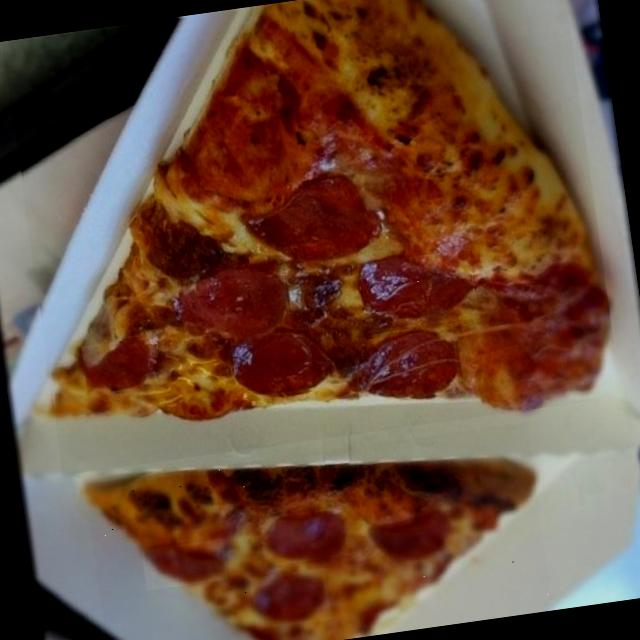pepperoni: (240, 172, 378, 273), (358, 248, 478, 332), (176, 259, 291, 343), (352, 328, 462, 406), (230, 325, 332, 400), (258, 507, 350, 567), (368, 508, 462, 566), (249, 568, 331, 630), (81, 337, 158, 396), (141, 538, 228, 590)
pizza: (54, 0, 609, 419), (86, 460, 535, 640)
